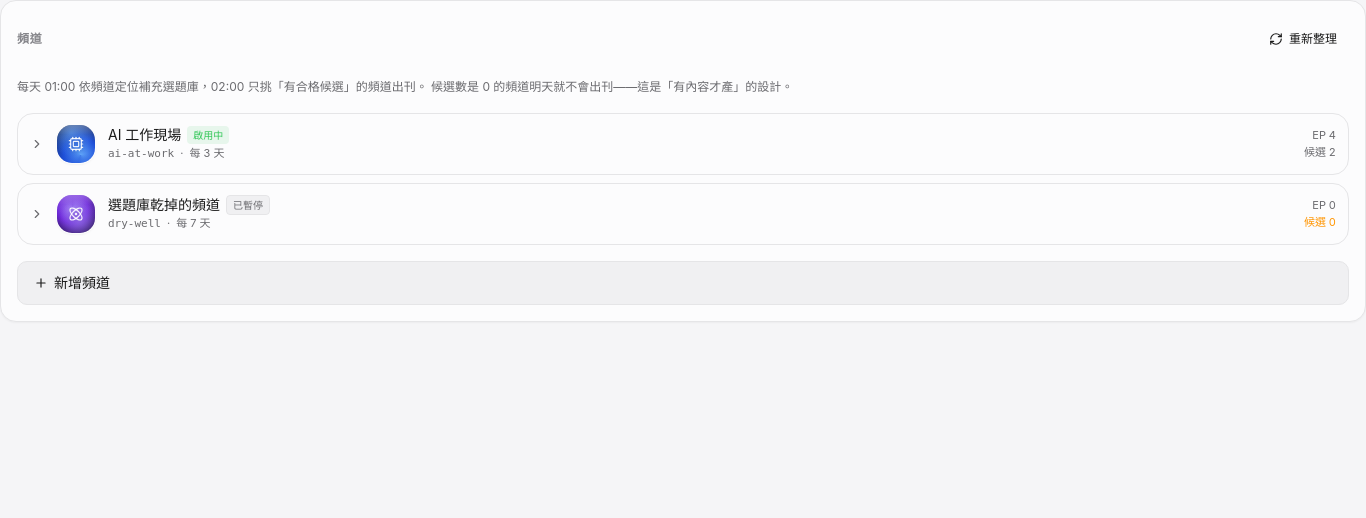
Test case: ChannelsPage › 展開頻道才載入選題庫，並顯示候選與分數
This screenshot has width=1366, height=518.
Click the button "AI 工作現場 啟用中 ai-at-work·每 3 天 EP 4 候選 2": (76, 144) [18,114,1348,174]
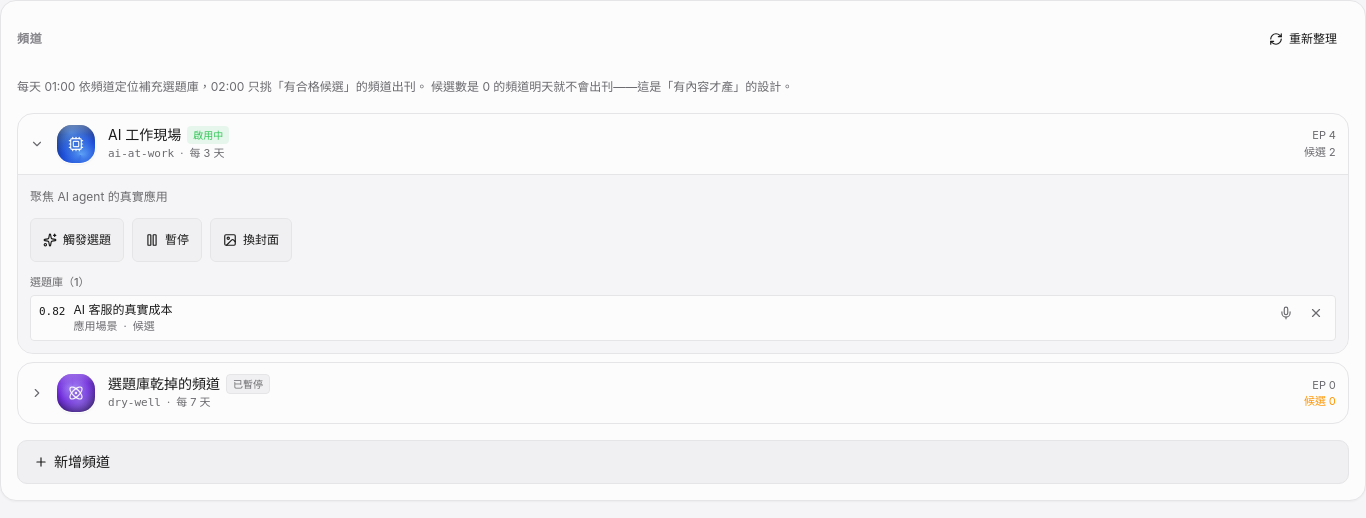
Expected: the text "AI 客服的真實成本" is shown, [74,302,172,316]
Expected: the text "0.82" is shown, [39,304,66,320]
Expected: the text "聚焦 AI agent 的真實應用" is shown, [30,188,168,204]
